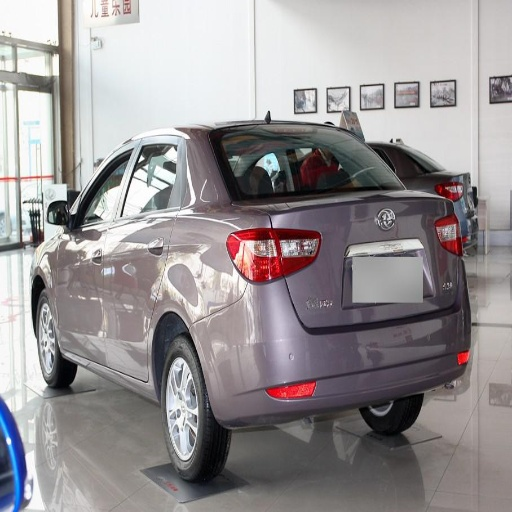back_bumper: (195, 254, 472, 430)
back_glass: (208, 128, 434, 199)
back_left_door: (108, 137, 180, 378)
tailgate: (262, 200, 398, 328), (345, 179, 444, 242)
trunk: (275, 194, 456, 344)
